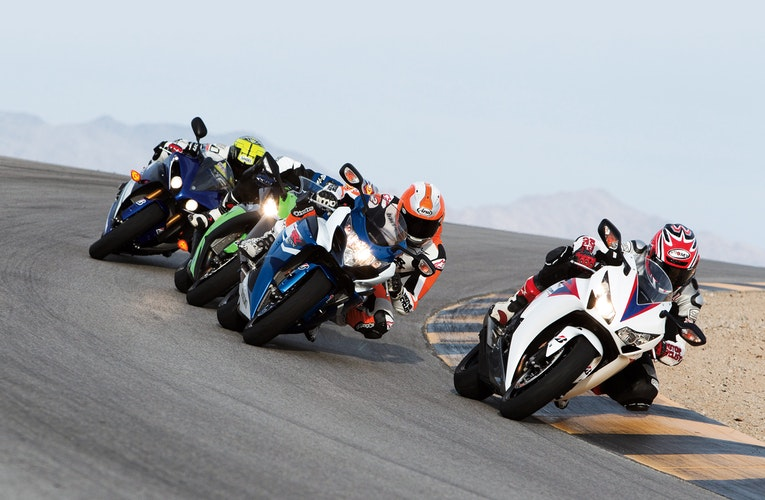helmet: (650, 212, 699, 301), (395, 180, 451, 252), (226, 132, 273, 192)
